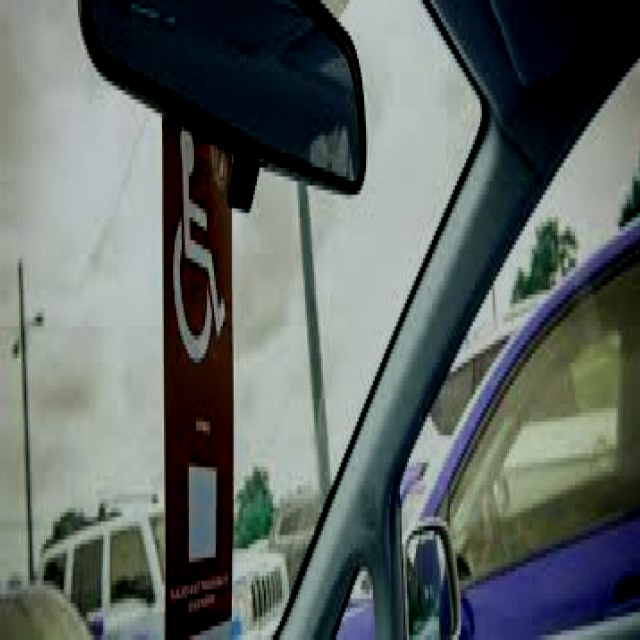ISA: (165, 121, 224, 368)
